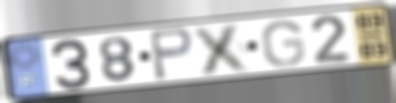2: (309, 13, 354, 66)
3: (47, 36, 91, 91)
8: (98, 36, 139, 83)
G: (259, 18, 308, 69)
P: (147, 26, 196, 82)
X: (190, 21, 255, 77)
